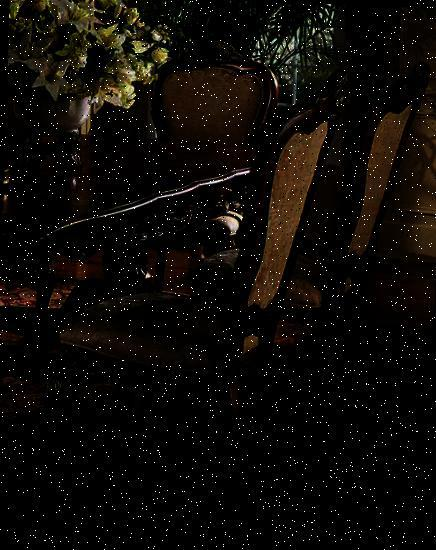Mesa: (0, 132, 273, 498)
Silla: (39, 58, 354, 533), (177, 52, 434, 433)
